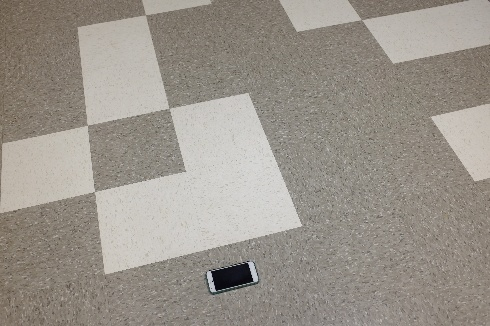phone: (206, 259, 255, 291)
